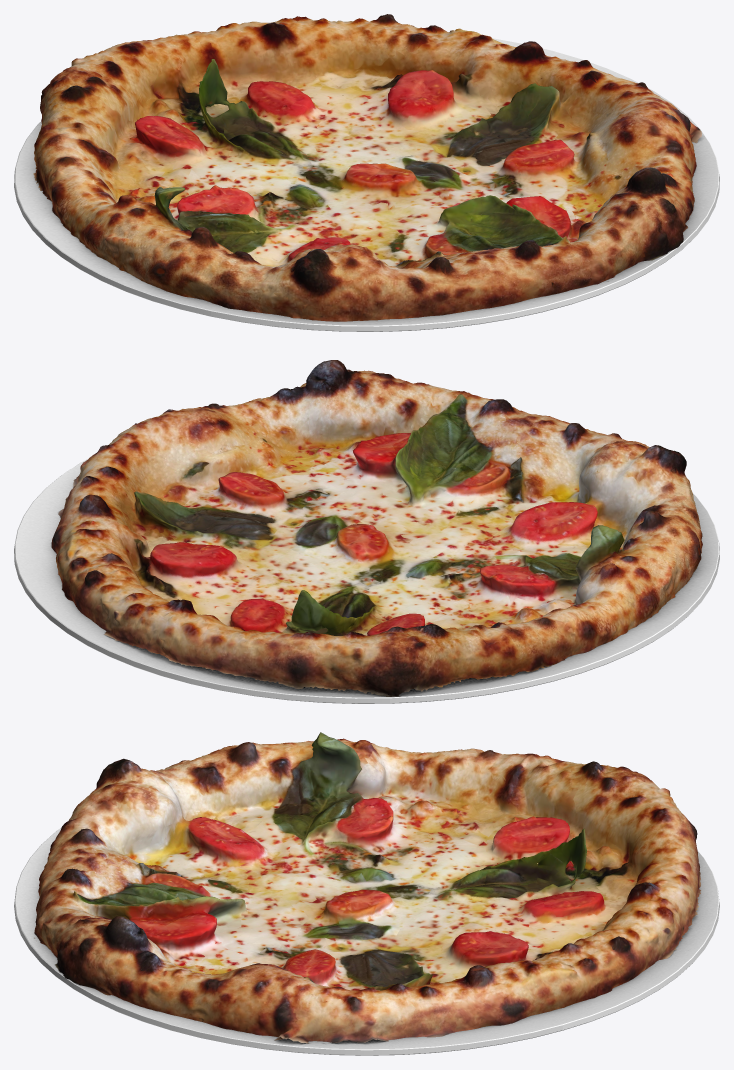
File: Plato_02.glb
3 renders of one model, top to bottom at view 1: azimuth 30°, elevation 25°; view 2: azimuth 150°, elevation 25°; view 3: azimuth 270°, elevation 25°, orthographic.
Parts seen in each view (by area): view 1: PizzaBurrataOriDecimate, PizzaBurrataFlatPlate; view 2: PizzaBurrataOriDecimate, PizzaBurrataFlatPlate; view 3: PizzaBurrataOriDecimate, PizzaBurrataFlatPlate.
Boxes of the visible parts, x1,y1,x2,y2 form: PizzaBurrataOriDecimate: (33, 14, 701, 321); PizzaBurrataFlatPlate: (14, 38, 719, 331); PizzaBurrataOriDecimate: (51, 360, 702, 696); PizzaBurrataFlatPlate: (14, 458, 719, 703); PizzaBurrataOriDecimate: (34, 732, 700, 1043); PizzaBurrataFlatPlate: (14, 827, 719, 1055).
Size of the model in its own units: 0.26 by 0.0415 by 0.26.
Materials: 2 (2 with a texture image).
